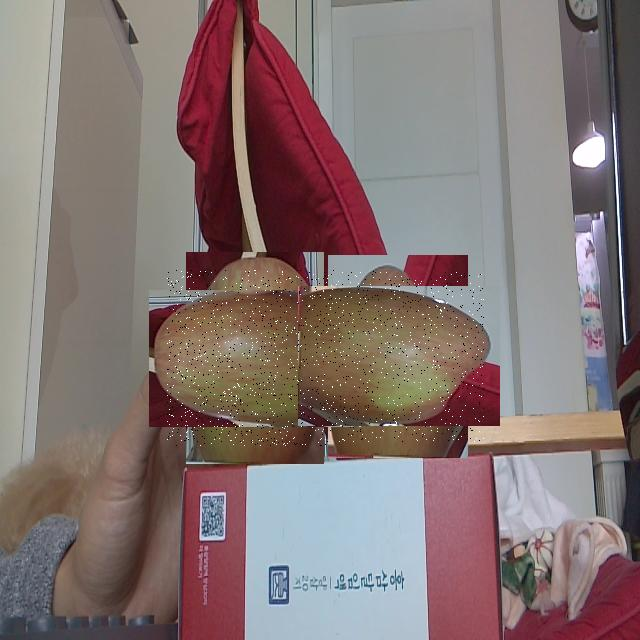apple: (167, 270, 343, 446), (313, 271, 484, 442)
